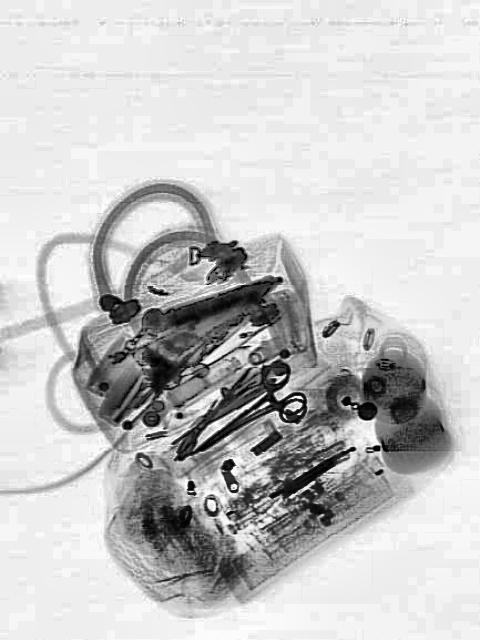Scissors: (179, 350, 311, 482)
